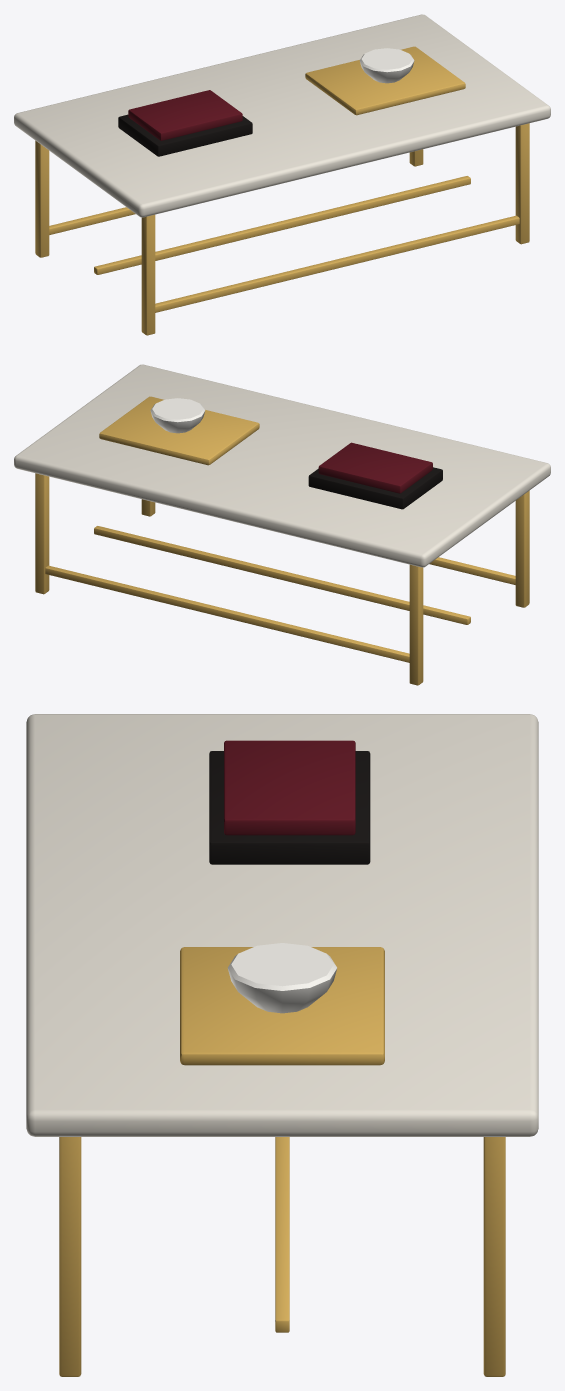
File: low_table.glb
3 views of the same model, one above another, from view 1: azimuth 30°, elevation 25°; view 2: azimuth 150°, elevation 25°; view 3: azimuth 270°, elevation 25° (orthographic). The views are drawn at different scales.
Parts seen in each view (by area): view 1: low_table; view 2: low_table; view 3: low_table.
Boxes of the visible parts, bbox=[...] form: low_table: bbox=[14, 14, 550, 335]; low_table: bbox=[14, 364, 550, 685]; low_table: bbox=[26, 714, 538, 1376].
Size of the model in its own units: 1.3 by 0.495 by 0.7.
